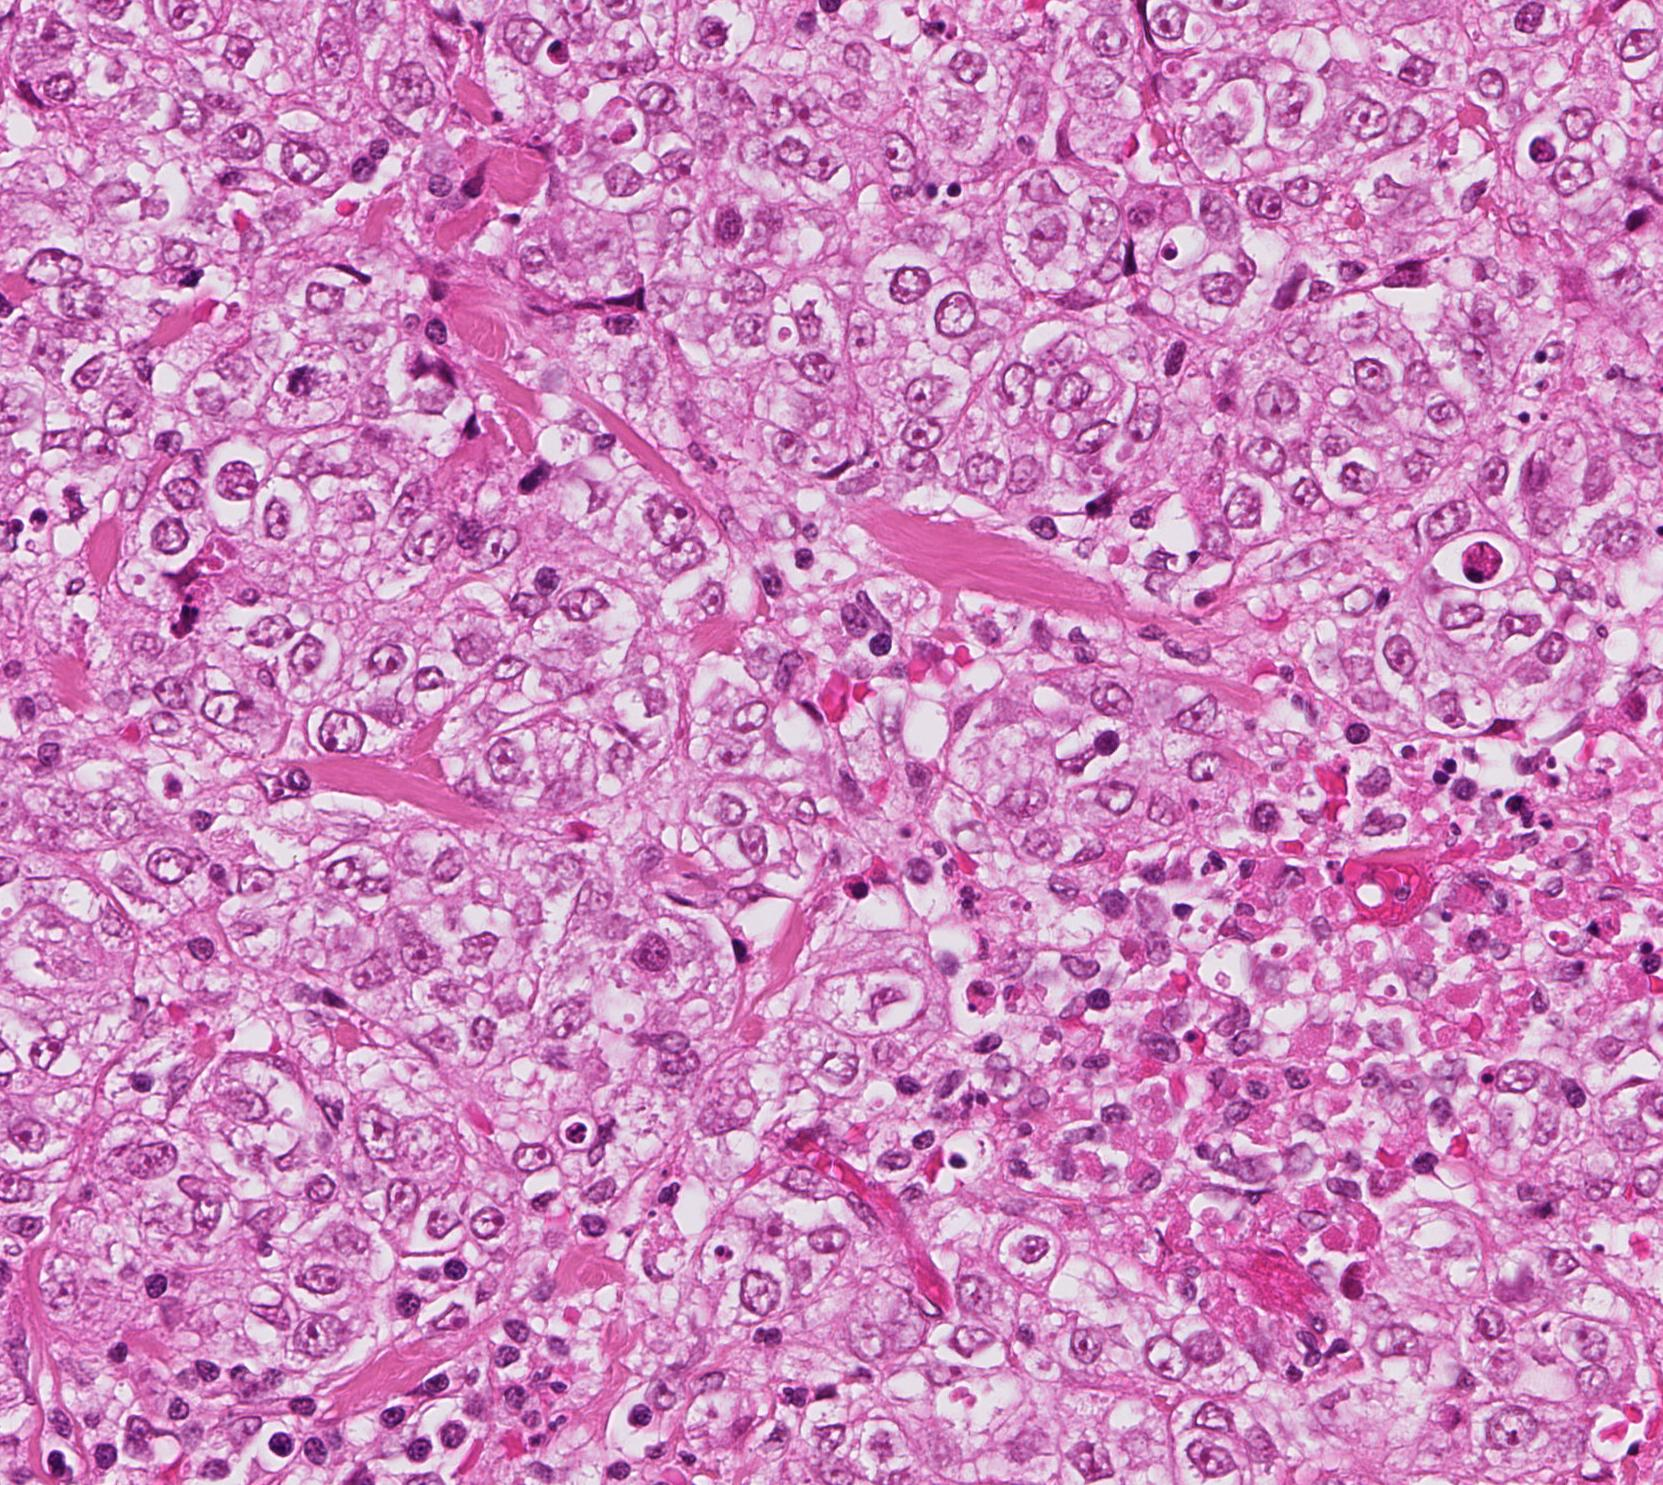mitosis: (272, 345, 333, 406)
